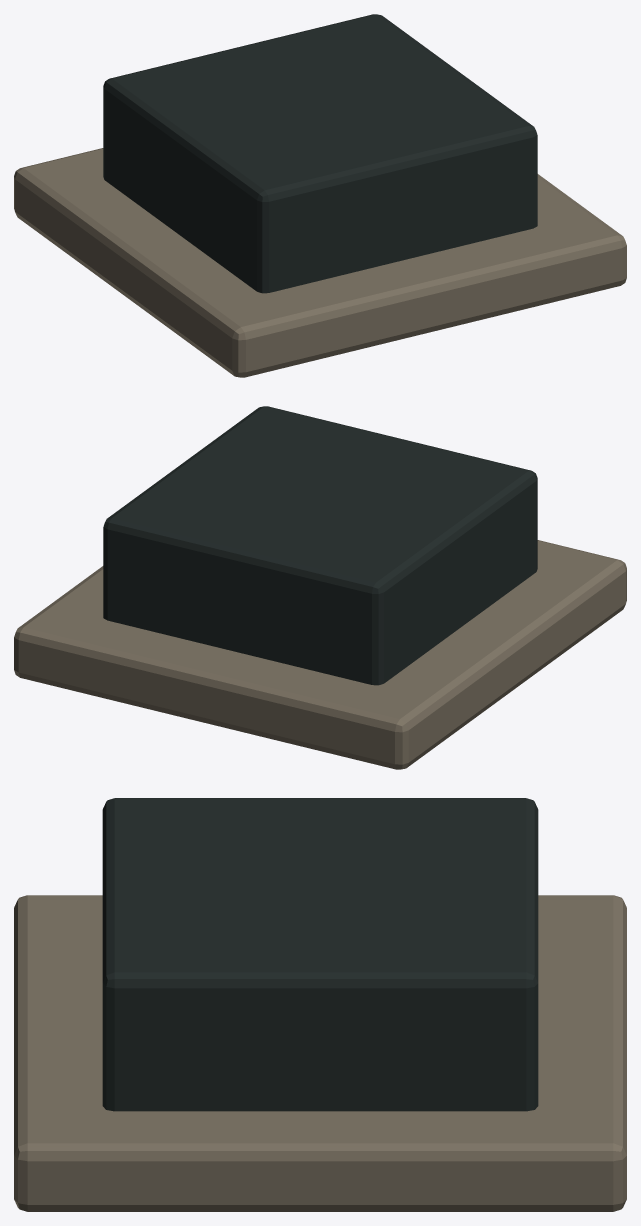
Rendered from spike_trap_LOD1.glb.
3 views of the same model, one above another, from view 1: azimuth 30°, elevation 25°; view 2: azimuth 150°, elevation 25°; view 3: azimuth 270°, elevation 25° (orthographic). The views are drawn at different scales.
Parts seen in each view (by area): view 1: LOD1_SpikeField, LOD1_SpikeTrapFrame; view 2: LOD1_SpikeField, LOD1_SpikeTrapFrame; view 3: LOD1_SpikeField, LOD1_SpikeTrapFrame.
Boxes of the visible parts, x1,y1,x2,y2 form: LOD1_SpikeField: (103, 14, 537, 293); LOD1_SpikeTrapFrame: (14, 148, 626, 377); LOD1_SpikeField: (103, 406, 537, 685); LOD1_SpikeTrapFrame: (14, 540, 626, 769); LOD1_SpikeField: (102, 798, 538, 1111); LOD1_SpikeTrapFrame: (14, 895, 626, 1211).
Size of the model in its own units: 2.28 by 0.83 by 2.28.
